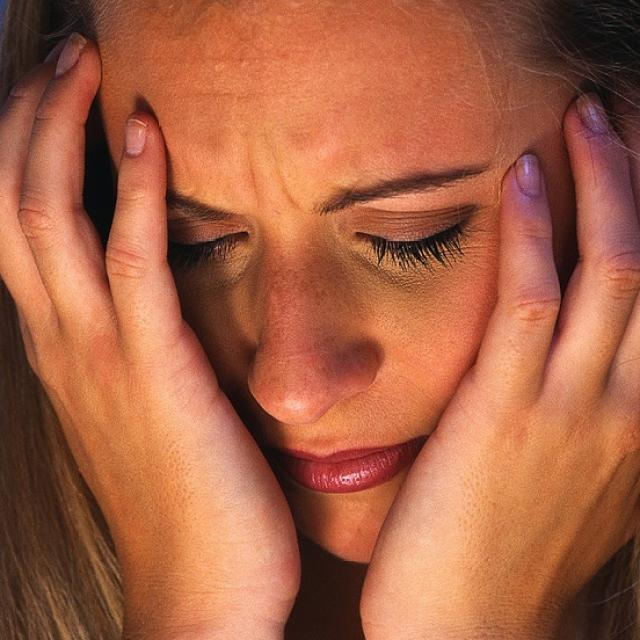Depress: (26, 0, 637, 573)
